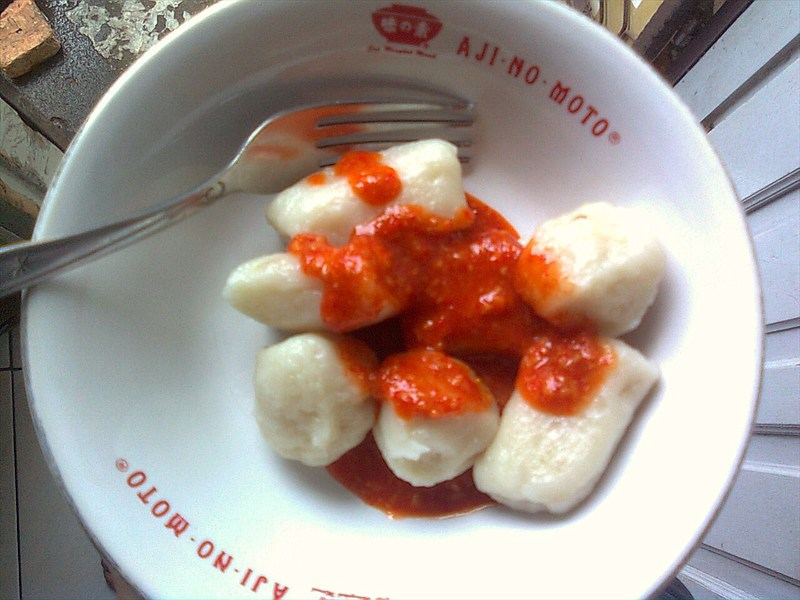Pempek: (162, 94, 648, 531)
